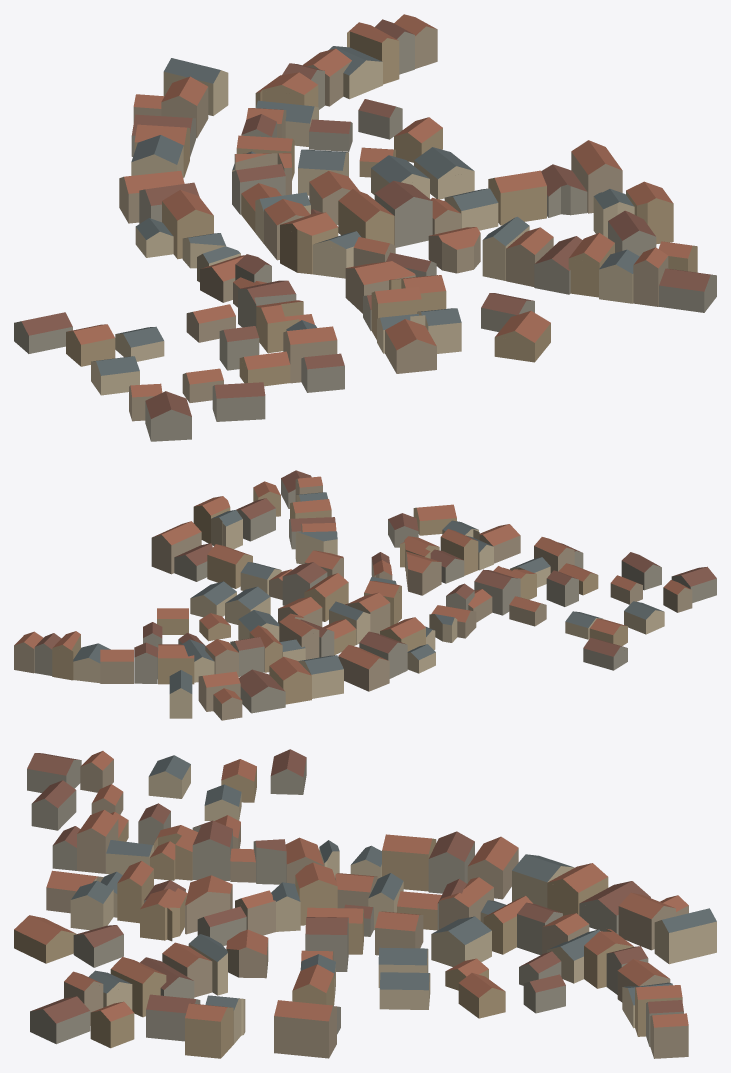
3 renders of one model, top to bottom at view 1: azimuth 30°, elevation 25°; view 2: azimuth 150°, elevation 25°; view 3: azimuth 270°, elevation 25°, orthographic. The views are drawn at different scales.
Parts seen in each view (by area): view 1: C_1_3; view 2: C_1_3; view 3: C_1_3.
Boxes of the visible parts, x1=… form: C_1_3: x1=14, y1=14, x2=716, y2=441; C_1_3: x1=14, y1=470, x2=716, y2=720; C_1_3: x1=14, y1=749, x2=716, y2=1058.
Bounding box in the file's own units: 188 × 14.13 × 196.
